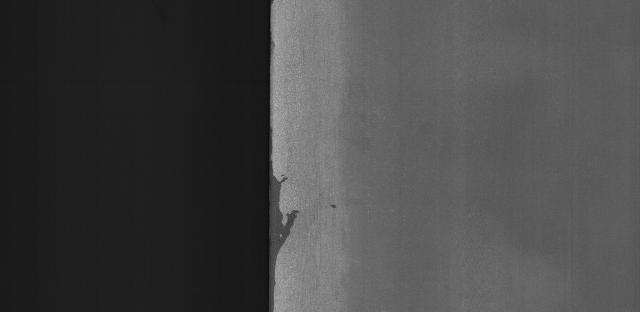water_spot: (251, 131, 311, 304)
